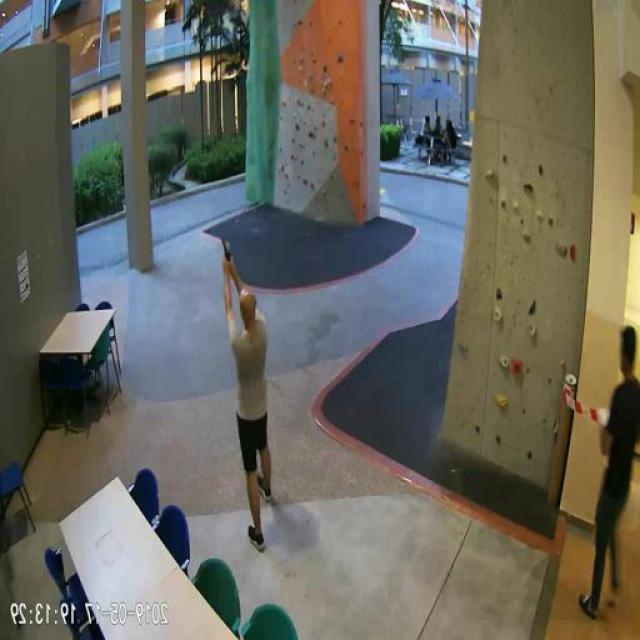weapon: (220, 236, 232, 263)
